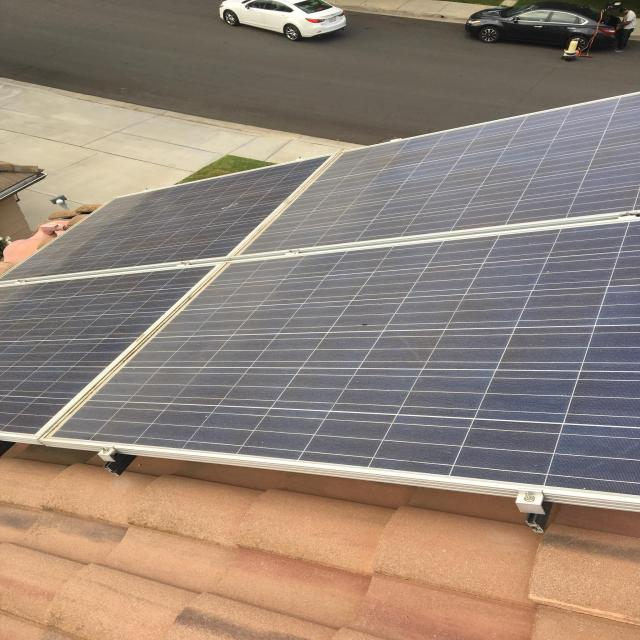dust-solar-panel: (0, 94, 638, 509)
